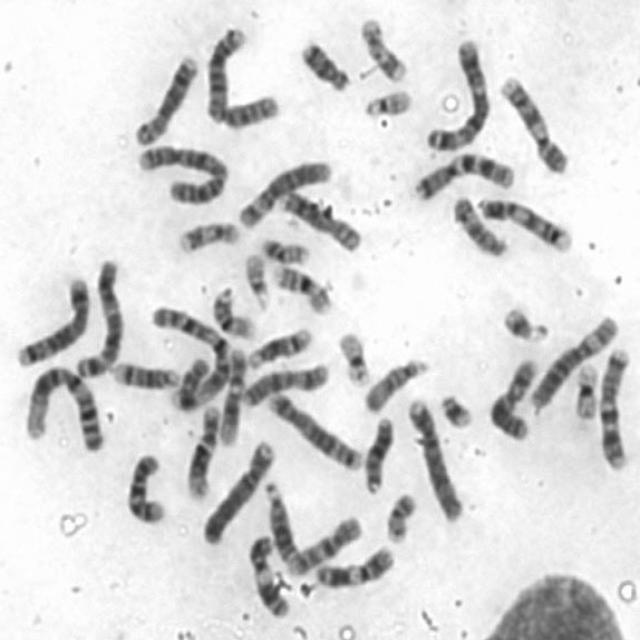A1: (147, 302, 232, 412), (21, 360, 107, 452)
A2: (201, 20, 285, 130), (132, 138, 230, 208)
A3: (421, 31, 494, 152), (70, 252, 127, 380)
B4: (197, 434, 278, 546), (404, 391, 466, 525)
B5: (263, 386, 366, 474), (11, 270, 93, 369)
C10: (284, 508, 365, 578), (123, 450, 167, 526)
C11: (243, 529, 293, 620), (311, 541, 396, 590)
C12: (183, 400, 222, 501), (215, 343, 249, 448)
C6: (525, 310, 619, 412), (233, 155, 335, 230)
C7: (411, 146, 516, 202), (594, 342, 634, 472)
C8: (129, 49, 201, 148), (276, 184, 364, 252)
C9: (495, 69, 571, 176), (475, 192, 574, 254)
D13: (257, 475, 300, 563), (359, 412, 396, 496)
D14: (244, 322, 316, 372), (105, 355, 182, 393)
D15: (447, 189, 510, 259), (360, 351, 430, 414)
E16: (268, 259, 334, 316), (210, 284, 256, 341)
E17: (356, 11, 410, 84), (172, 215, 243, 256)
E18: (296, 32, 352, 92), (168, 352, 212, 412)
F19: (334, 325, 374, 387), (568, 356, 601, 422)
F20: (382, 485, 421, 545), (255, 232, 311, 266)
G21: (499, 299, 554, 345), (435, 386, 477, 430)
G22: (358, 81, 415, 119), (241, 245, 273, 311)
X: (238, 356, 334, 409), (485, 353, 541, 442)
